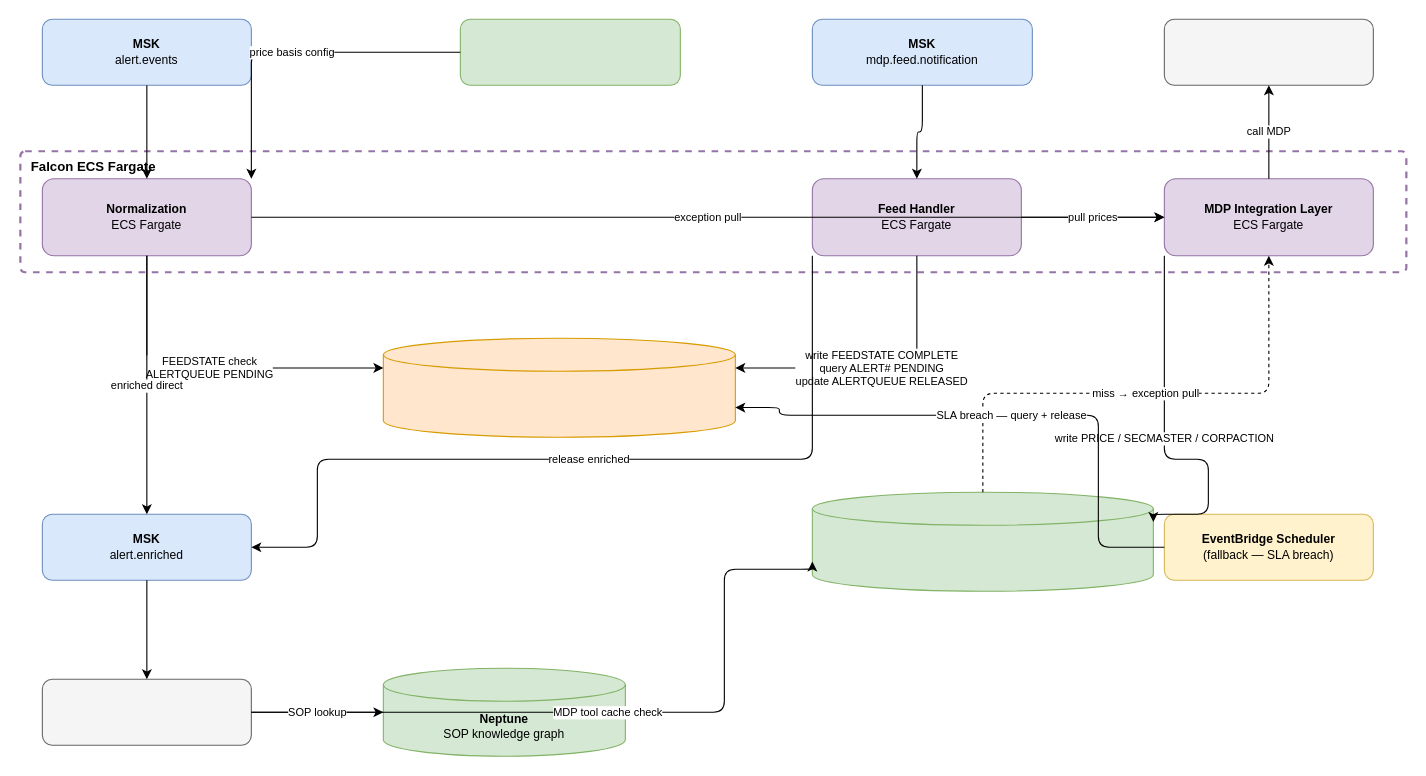
This 1426x776 diagram has some shape labels left out. The centre of each missing label's shape, as x and y in pixels:
DynamoDB falcon-em-market-data-aggregation ALERTQUEUE + FEEDSTATE: point (558, 387)
DynamoDB falcon-market-data-cache PRICE · SECMASTER · CORPACTION: point (982, 541)
MDP Price API (external): point (1268, 51)
Parameter Store falcon-config: point (569, 51)
Research Agent ECS + Bedrock: point (146, 711)
